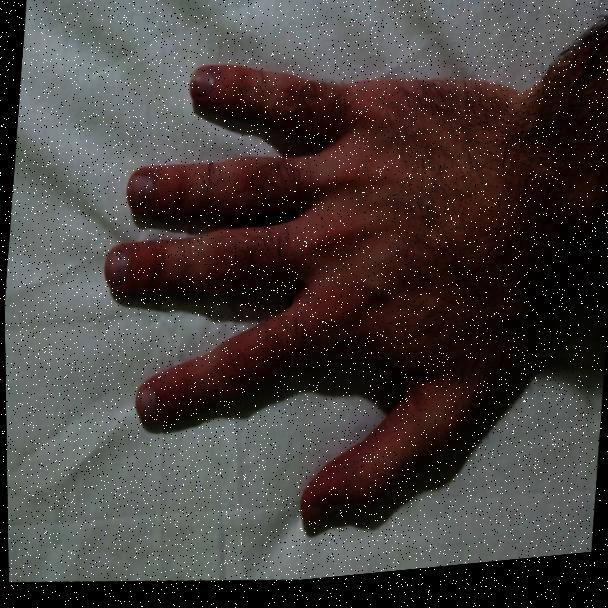five: (73, 20, 583, 575)
